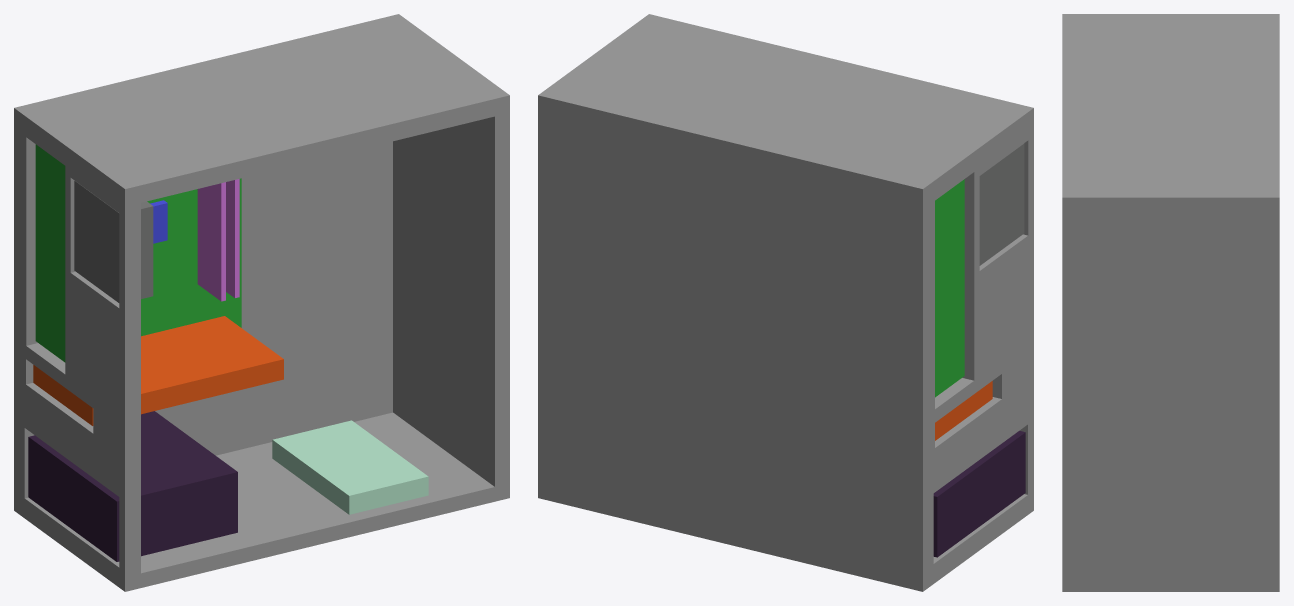
The model's file is case.glb.
The picture shows the model from 3 angles, left to right: view 1: azimuth 30°, elevation 25°; view 2: azimuth 150°, elevation 25°; view 3: azimuth 270°, elevation 25°; orthographic projection. The views are drawn at different scales.
Visible parts, largest first — view 1: Case, PSU, Motherboard, GPU, HDD, Fan, RAM1, RAM2; view 2: Case, PSU, Motherboard, Fan, GPU; view 3: Case.
Part boxes in pixels (left/top/right/bottom): Case: left=14, top=14, right=509, bottom=591; PSU: left=28, top=411, right=237, bottom=561; Motherboard: left=35, top=144, right=241, bottom=362; GPU: left=33, top=316, right=283, bottom=425; HDD: left=272, top=420, right=428, bottom=514; Fan: left=74, top=180, right=153, bottom=302; RAM1: left=197, top=182, right=225, bottom=301; RAM2: left=226, top=179, right=239, bottom=297; Case: left=538, top=14, right=1033, bottom=591; PSU: left=933, top=430, right=1025, bottom=557; Motherboard: left=935, top=179, right=964, bottom=397; Fan: left=979, top=143, right=1024, bottom=265; GPU: left=935, top=381, right=992, bottom=440; Case: left=1062, top=14, right=1279, bottom=591.
Size of the model in its own units: 2.05 by 2.05 by 1.02.
